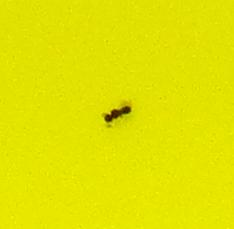Hymenoptera: (100, 100, 134, 129)
